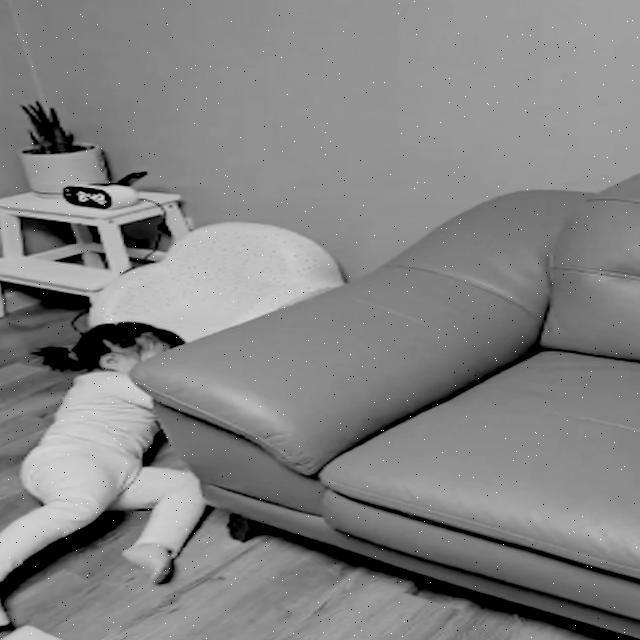child: (0, 319, 205, 640)
